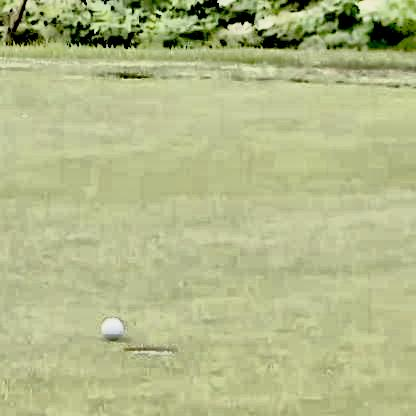golfball: (98, 315, 122, 339)
